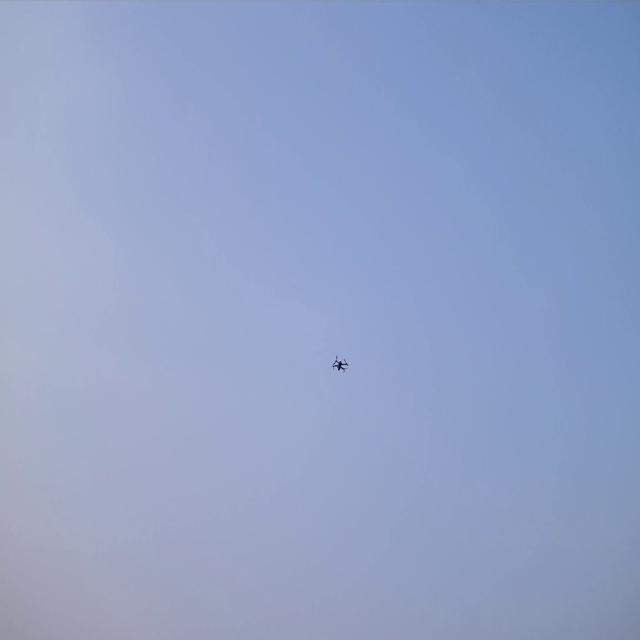UAV: (331, 354, 349, 374)
